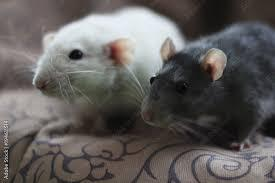rat: (32, 6, 190, 137), (140, 22, 274, 151)
